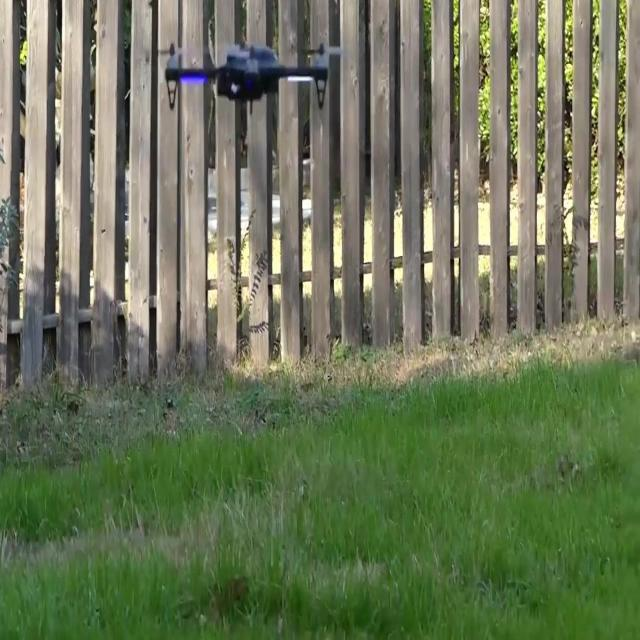UAV: (157, 41, 345, 115)
